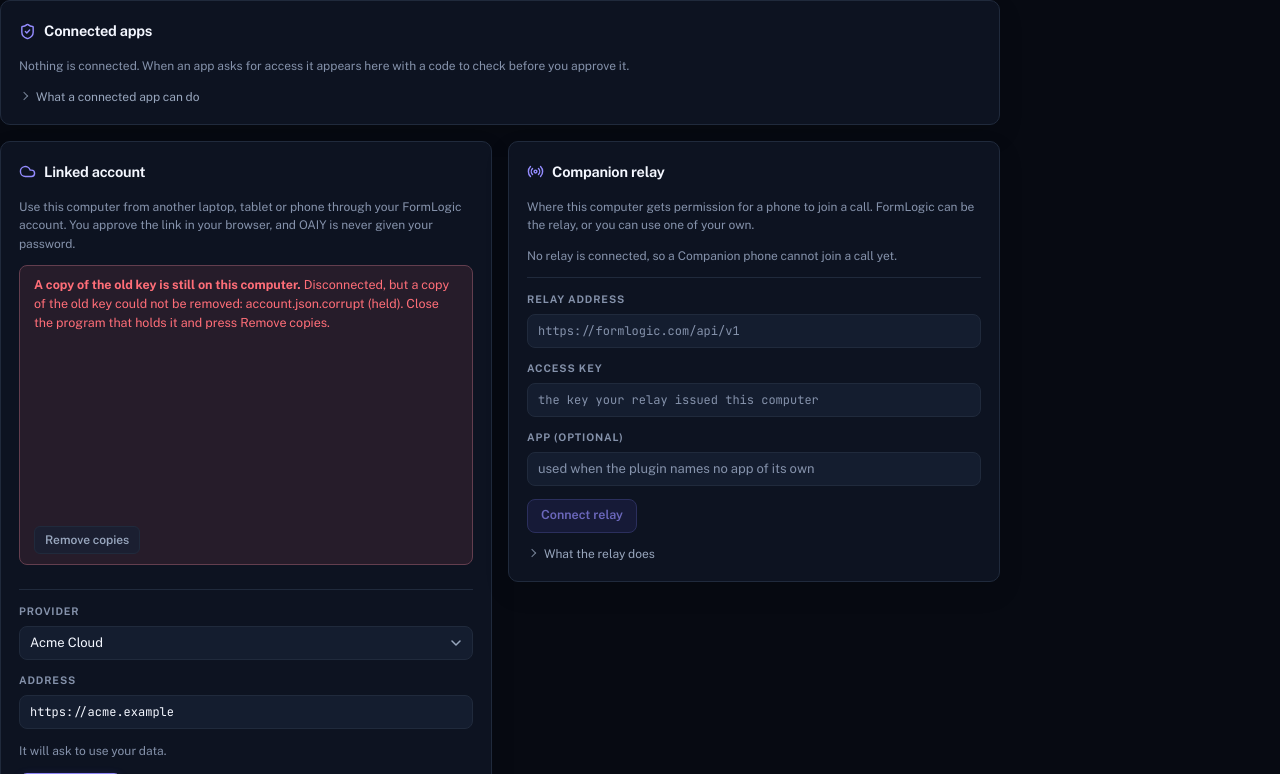
Scenario: ConnectionsPanel · Linked account › removes the copies on Remove copies, asks for nothing else to be forgotten, and says so when it worked
The image size is (1280, 774).
Expected: the message is shown, [19,265,473,565]
Click the button "Remove copies". click: x=87, y=540
box: [34,526,140,554]
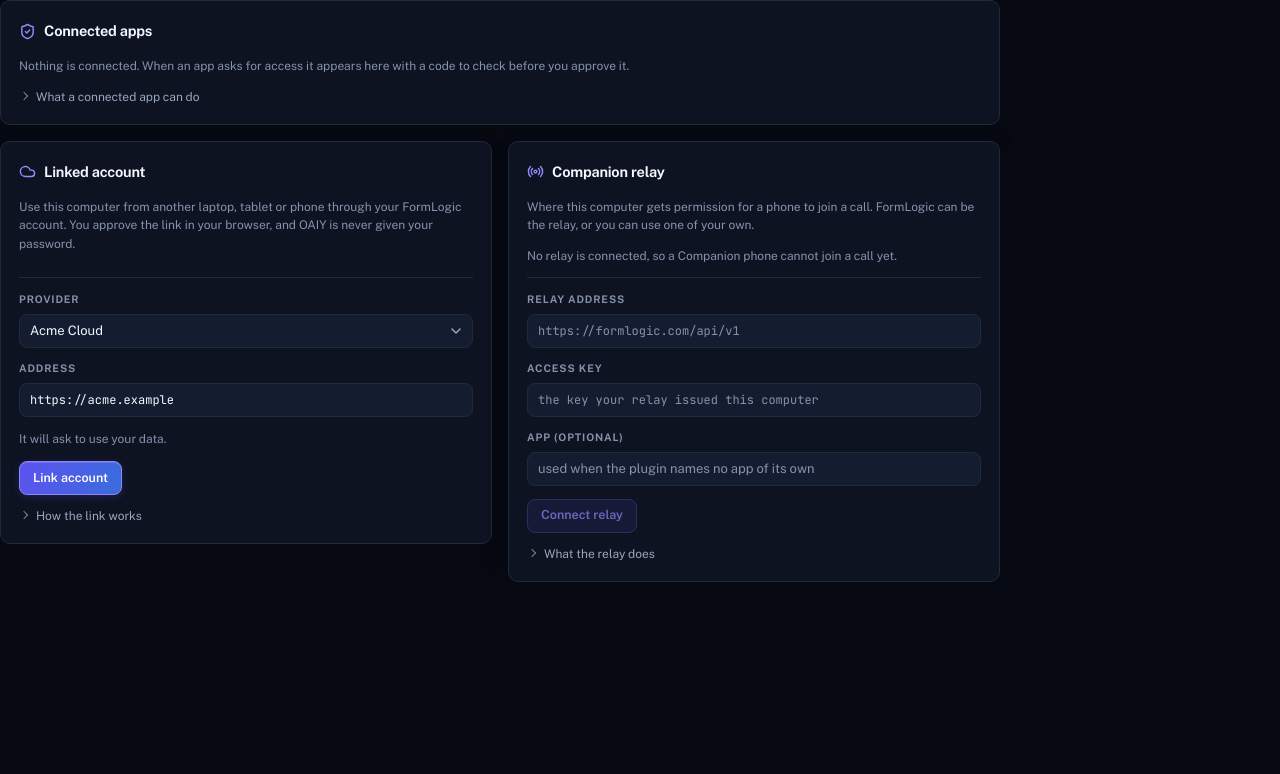
Now the message is gone
